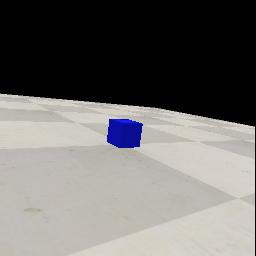box: (107, 118, 143, 148)
